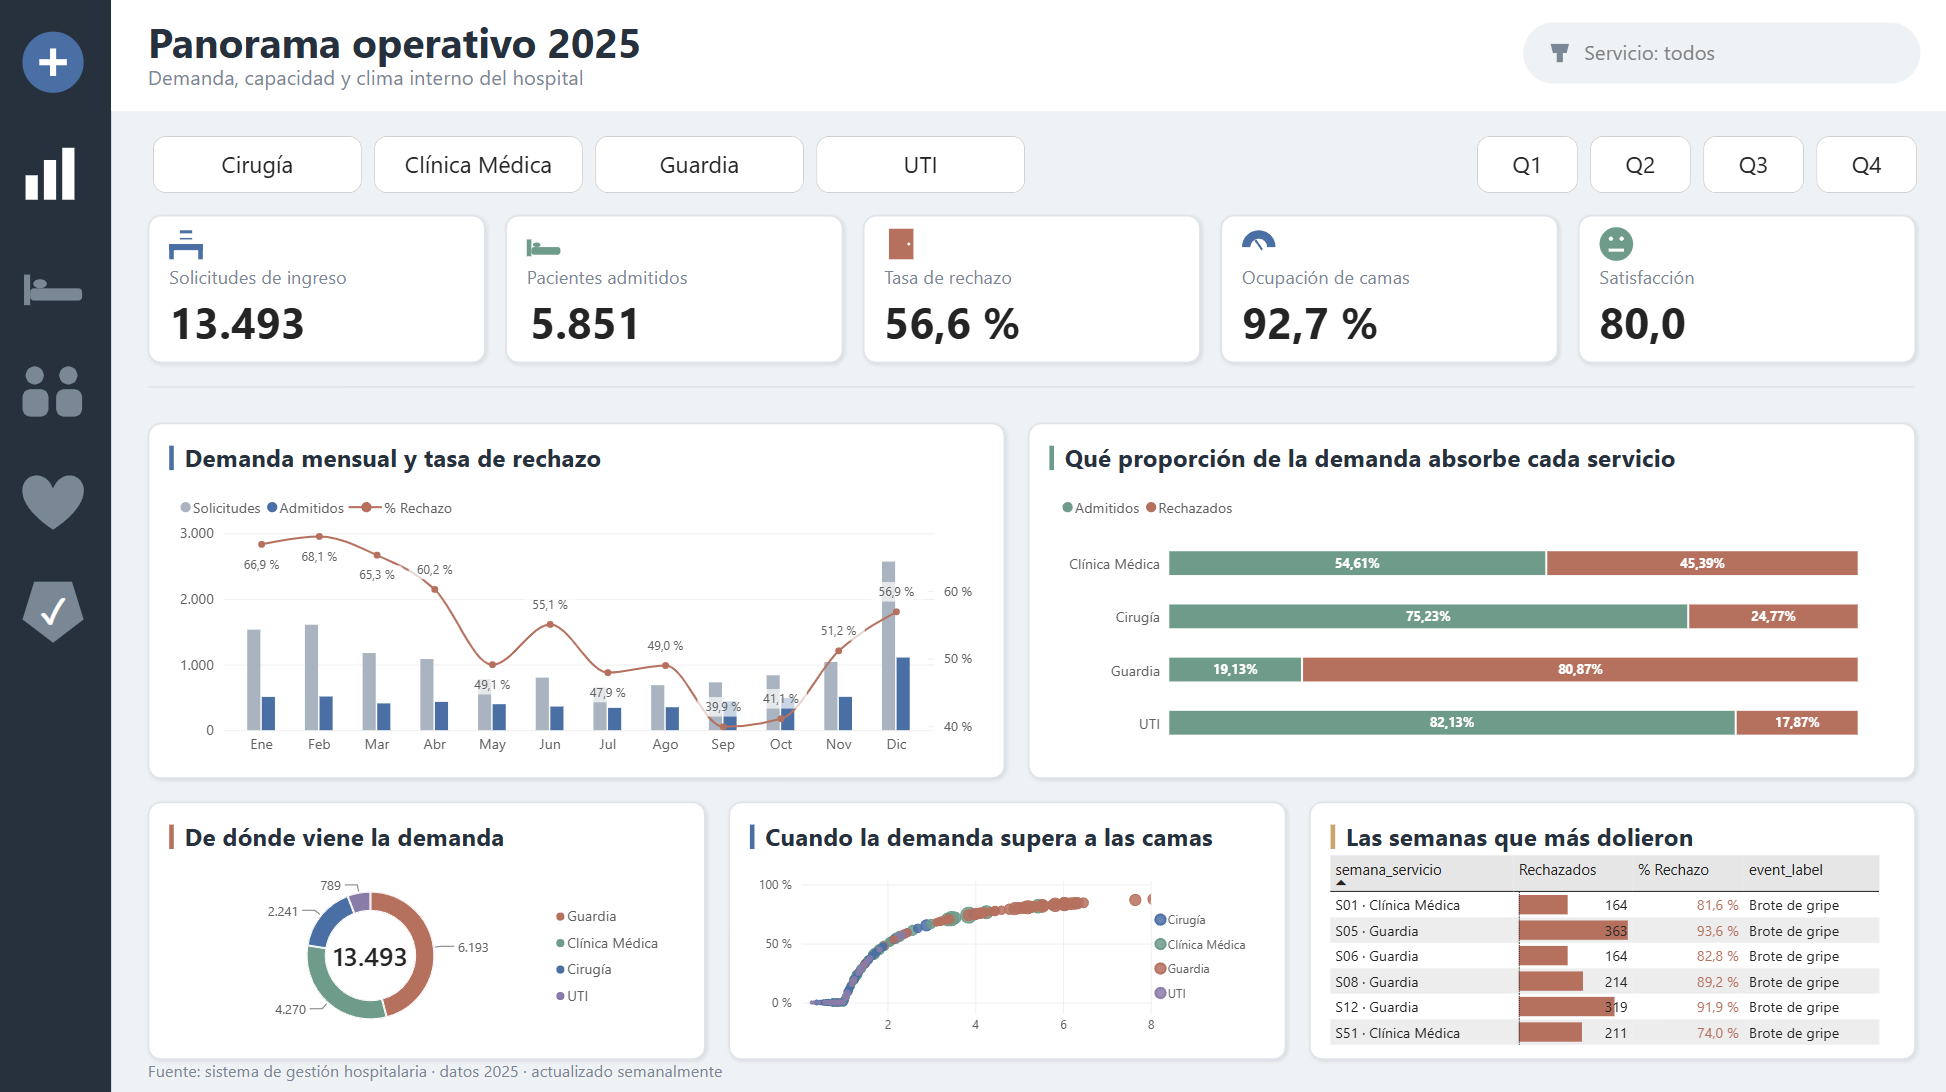

What the dashboard file says about the page in this screenshot:
{"tool":"powerbi","page":{"name":"Resumen ejecutivo","canvas":[1920,1080],"ordinal":0},"visuals":[{"type":"cardVisual","fields":{"Data":["Medidas.Solicitudes"]},"box":[155.1,275.8,183.6,89.3],"z":0},{"type":"cardVisual","fields":{"Data":["Medidas.Admitidos"]},"box":[509.4,275.8,183.6,89.3],"z":1000},{"type":"cardVisual","fields":{"Data":["Medidas.% Rechazo"]},"box":[856.9,275.8,183.6,89.3],"z":2000},{"type":"cardVisual","fields":{"Data":["Medidas.% Ocupación"]},"box":[1208.3,275.8,205.2,89.3],"z":3000},{"type":"cardVisual","fields":{"Data":["Medidas.Satisfacción Operativa"]},"box":[1558.8,275.8,183.6,89.3],"z":4000},{"type":"lineClusteredColumnComboChart","fields":{"Category":["dim_week.month_short"],"Y":["Medidas.Solicitudes","Medidas.Admitidos"],"Y2":["Medidas.% Rechazo"]},"box":[164.9,473.1,813.7,292.5],"z":5000},{"type":"hundredPercentStackedBarChart","fields":{"Category":["dim_service.service_label"],"Y":["Medidas.Admitidos","Medidas.Rechazados"]},"box":[1030.7,473.1,813.7,292.5],"z":6000},{"type":"donutChart","fields":{"Category":["dim_service.service_label"],"Y":["Medidas.Solicitudes"]},"box":[172.8,848.1,503.6,191.4],"z":7000},{"type":"scatterChart","fields":{"X":["Medidas.Presión de Demanda"],"Y":["Medidas.% Rechazo"],"Size":["Medidas.Solicitudes"],"Series":["dim_service.service_label"],"Category":["dim_week.week_label"]},"box":[733.3,848.1,520.2,191.4],"z":8000},{"type":"tableEx","fields":{"Values":["fact_service_weekly.semana_servicio","Medidas.Rechazados","Medidas.% Rechazo","fact_service_weekly.event_label"]},"box":[1293.7,830.4,574.2,249.3],"z":9000},{"type":"advancedSlicerVisual","fields":{"Values":["dim_service.service_label"]},"box":[155.1,138.4,859.9,56.9],"z":10000},{"type":"advancedSlicerVisual","fields":{"Values":["dim_week.quarter_label"]},"box":[1454.7,138.4,432.9,56.9],"z":11000},{"type":"cardVisual","fields":{"Data":["Medidas.Filtro Activo"]},"box":[1544,24.5,300.4,61.8],"z":12000},{"type":"shape","box":[0,245.4,113.9,82.5],"z":13000},{"type":"shape","box":[0,347.5,113.9,82.5],"z":14000},{"type":"shape","box":[0,457.4,113.9,82.5],"z":15000},{"type":"shape","box":[0,558.5,113.9,82.5],"z":16000}]}

Visuals, with their boxes on the page's 1920x1080 design canvas (x1, y1, x2, y2). These are canvas units, not pixel positions in the 1946x1092 screenshot, which may show the page scaled, cropped or inside an application window:
cardVisual - Medidas.Solicitudes: {"x1": 155, "y1": 276, "x2": 339, "y2": 365}
cardVisual - Medidas.Admitidos: {"x1": 509, "y1": 276, "x2": 693, "y2": 365}
cardVisual - Medidas.% Rechazo: {"x1": 857, "y1": 276, "x2": 1040, "y2": 365}
cardVisual - Medidas.% Ocupación: {"x1": 1208, "y1": 276, "x2": 1414, "y2": 365}
cardVisual - Medidas.Satisfacción Operativa: {"x1": 1559, "y1": 276, "x2": 1742, "y2": 365}
lineClusteredColumnComboChart - dim_week.month_short x Medidas.Solicitudes: {"x1": 165, "y1": 473, "x2": 979, "y2": 766}
hundredPercentStackedBarChart - dim_service.service_label x Medidas.Admitidos: {"x1": 1031, "y1": 473, "x2": 1844, "y2": 766}
donutChart - dim_service.service_label x Medidas.Solicitudes: {"x1": 173, "y1": 848, "x2": 676, "y2": 1040}
scatterChart - Medidas.Presión de Demanda x Medidas.% Rechazo: {"x1": 733, "y1": 848, "x2": 1254, "y2": 1040}
tableEx - fact_service_weekly.semana_servicio x Medidas.Rechazados: {"x1": 1294, "y1": 830, "x2": 1868, "y2": 1080}
advancedSlicerVisual - dim_service.service_label: {"x1": 155, "y1": 138, "x2": 1015, "y2": 195}
advancedSlicerVisual - dim_week.quarter_label: {"x1": 1455, "y1": 138, "x2": 1888, "y2": 195}
cardVisual - Medidas.Filtro Activo: {"x1": 1544, "y1": 24, "x2": 1844, "y2": 86}
shape: {"x1": 0, "y1": 245, "x2": 114, "y2": 328}
shape: {"x1": 0, "y1": 348, "x2": 114, "y2": 430}
shape: {"x1": 0, "y1": 457, "x2": 114, "y2": 540}
shape: {"x1": 0, "y1": 558, "x2": 114, "y2": 641}
